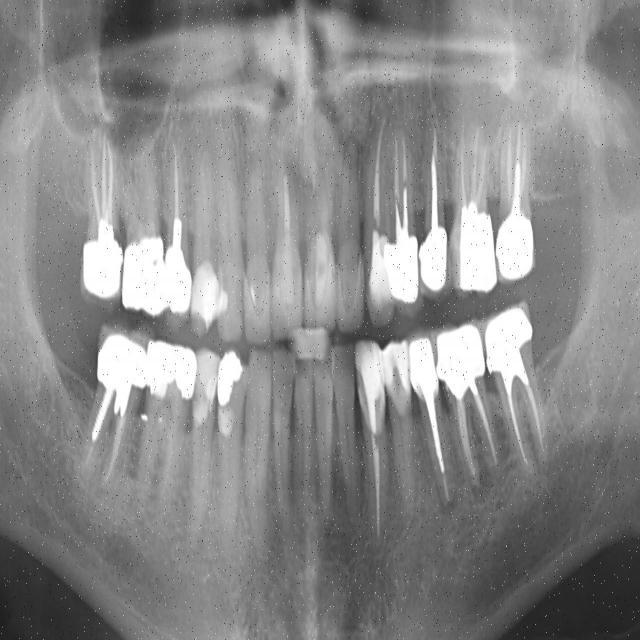dolgu: (195, 254, 245, 336), (196, 343, 246, 419)
kanal-tedavisi: (494, 368, 558, 468), (69, 134, 125, 230), (412, 382, 458, 493), (446, 126, 493, 232), (360, 122, 394, 254), (160, 140, 196, 260), (452, 384, 500, 474), (80, 388, 123, 488), (494, 122, 536, 224), (362, 388, 390, 536), (417, 120, 450, 240), (389, 124, 419, 251), (278, 168, 296, 270)
kaplama: (477, 303, 546, 383), (454, 194, 502, 305), (110, 225, 168, 316), (92, 326, 148, 409), (73, 227, 124, 314), (433, 319, 488, 393), (493, 206, 540, 292), (152, 332, 195, 414), (374, 330, 416, 410), (386, 220, 425, 306), (160, 236, 200, 319), (359, 233, 399, 313), (413, 210, 452, 288), (404, 328, 440, 403), (356, 329, 388, 413)
